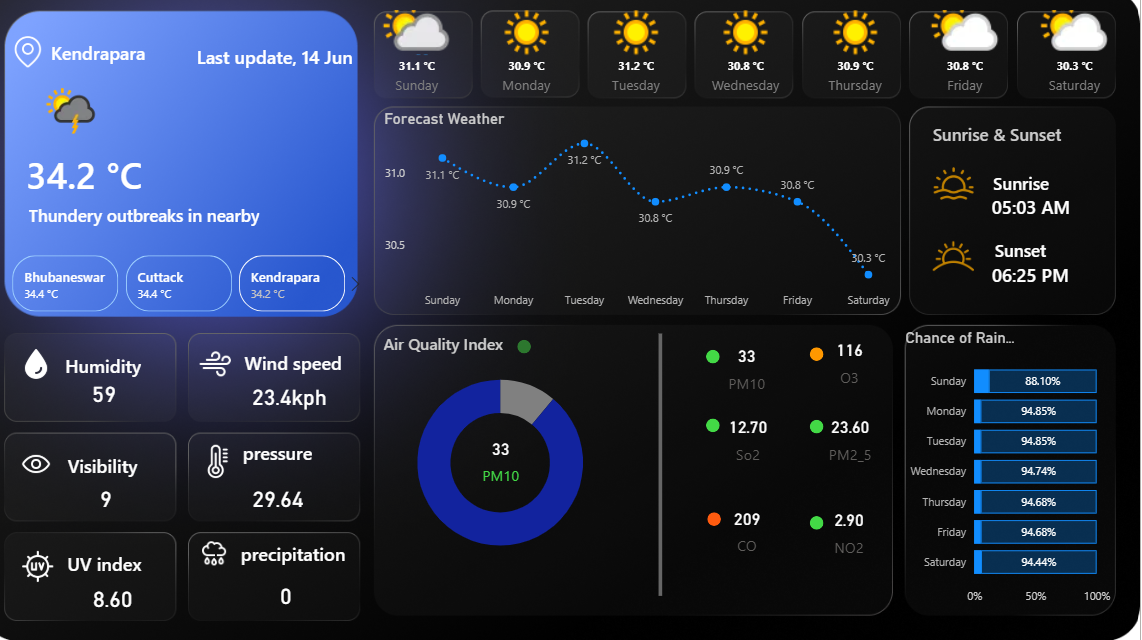

This screenshot's page, from the dashboard's own definition file:
{"tool":"powerbi","page":{"name":"Page 1","canvas":[1280,720],"ordinal":0},"visuals":[{"type":"advancedSlicerVisual","fields":{"Values":["locations.location.name"],"Label":["_measure.Curr_Temp_C"]},"box":[9.6,286.8,419.9,72.7],"z":0},{"type":"shape","box":[38.4,175.6,150.9,48],"z":1000},{"type":"shape","box":[34.3,223.7,290.9,49.4],"z":2000},{"type":"shape","box":[77.3,42.8,222.1,49.7],"z":3000},{"type":"shape","box":[188.5,47.9,221.4,49.4],"z":4000},{"type":"image","box":[34.5,48.3,34.5,37.2],"z":5000},{"type":"cardVisual","fields":{"Data":["Min(current table.current.condition.icon)"]},"box":[38.4,85.1,116.6,90.6],"z":6000},{"type":"image","box":[42.5,500.9,35.7,42.5],"z":7000},{"type":"image","box":[240.1,500.9,42.5,37],"z":8000},{"type":"image","box":[38.4,616.1,48,37],"z":9000},{"type":"image","box":[240.1,603.8,34.3,32.9],"z":10000},{"type":"image","box":[42.5,393.8,35.7,37],"z":11000},{"type":"image","box":[1028.6,262,88.2,61],"z":12000},{"type":"image","box":[240.1,393.8,37,37],"z":13000},{"type":"image","box":[1049.4,190.7,46.7,44.1],"z":14000},{"type":"shape","box":[269,606.5,150.9,27.4],"z":15000},{"type":"shape","box":[262.1,491.3,130.4,35.7],"z":16000},{"type":"shape","box":[279.9,393.8,129,32.9],"z":17000},{"type":"shape","box":[70,616.1,131.7,31.6],"z":18000},{"type":"shape","box":[68.6,509.1,130.4,28.8],"z":19000},{"type":"shape","box":[70,396.6,129,34.3],"z":20000},{"type":"card","fields":{"Values":["Sum(current table.current.precip_in)"]},"box":[302.4,648.4,69.2,37.6],"z":21000},{"type":"card","fields":{"Values":["Sum(current table.current.uv)"]},"box":[111.3,648.4,67.7,45.1],"z":22000},{"type":"card","fields":{"Values":["Sum(current table.current.pressure_in)"]},"box":[284.3,537.1,87.3,46.6],"z":23000},{"type":"card","fields":{"Values":["Sum(current table.current.vis_km)"]},"box":[96.3,537.1,82.7,46.6],"z":24000},{"type":"card","fields":{"Values":["_measure.Wind_Speed"]},"box":[275.3,424.3,129.4,46.6],"z":25000},{"type":"card","fields":{"Values":["Sum(current table.current.humidity)"]},"box":[99.3,419.7,72.2,51.2],"z":26000},{"type":"advancedSlicerVisual","fields":{"Values":["forecast day.Day_Name"]},"box":[419,2.6,852.2,128.4],"z":27000},{"type":"lineChart","title":"Forecast Weather","fields":{"Y":["Sum(forecast day.forecast.forecastday.day.avgtemp_c)"],"Category":["forecast day.Day_Name"]},"box":[439.7,131,575.9,228.3],"z":28000},{"type":"shape","box":[1083.1,268.5,128.4,35],"z":29000},{"type":"shape","box":[1083.1,194.6,129.7,35],"z":30000},{"type":"shape","box":[1040.3,141.4,162.1,33.7],"z":31000},{"type":"shape","box":[1084.4,214,149.2,48],"z":32000},{"type":"shape","box":[1083.1,293.2,150.5,41.5],"z":33000},{"type":"hundredPercentStackedBarChart","title":"Chance of Rain...","fields":{"Category":["forecast day.Day_Name"],"Y":["Sum(current table.current.chance_of_rain)","current table.Left_value_Rain"]},"box":[1015.6,372.3,236.1,313.9],"z":34000},{"type":"shape","box":[429.3,368.4,162.1,41.5],"z":35000},{"type":"card","fields":{"Values":["Sum(current table.current.air_quality.o3)"]},"box":[921.6,372.5,74.5,71.7],"z":36000},{"type":"card","fields":{"Values":["Sum(current table.current.air_quality.co)"]},"box":[808.5,557.4,74.5,73.1],"z":37000},{"type":"card","fields":{"Values":["Sum(current table.current.air_quality.pm2_5)"]},"box":[923,456.7,73.1,73.1],"z":38000},{"type":"card","fields":{"Values":["Sum(current table.current.air_quality.so2)"]},"box":[809.4,456.6,73.9,72.6],"z":39000},{"type":"card","fields":{"Values":["Sum(current table.current.air_quality.pm10)"]},"box":[808.1,377.5,73.9,72.6],"z":40000},{"type":"card","fields":{"Values":["Sum(current table.current.air_quality.no2)"]},"box":[921.6,560.1,73.1,71.7],"z":41000},{"type":"shape","box":[800.2,395.9,15.2,15.2],"z":42000},{"type":"shape","box":[800.2,471.8,15.2,15.2],"z":43000},{"type":"shape","box":[801.6,575.3,15.2,15.2],"z":44000},{"type":"shape","box":[914.7,473.2,15.2,15.2],"z":45000},{"type":"shape","box":[914.7,393.2,15.2,15.2],"z":46000},{"type":"shape","box":[914.7,579.4,15.2,15.2],"z":47000},{"type":"shape","box":[669.1,378,161.4,289.7],"z":48000},{"type":"card","fields":{"Values":["Sum(current table.current.air_quality.pm10)"]},"box":[536.7,480.1,74.5,73.1],"z":49000},{"type":"donutChart","fields":{"Y":["Sum(current table.current.air_quality.pm10)","_measure.Left_Value_PM10"]},"box":[418,401.5,310.4,238.7],"z":50000},{"type":"shape","box":[591.9,384.9,15.2,15.2],"z":51000}]}

Visuals, with their boxes in screenshot pixels (x1, y1, x2, y2), scaled from the page's 1280x720 canvas onto the 1142x640 screenshot:
advancedSlicerVisual - locations.location.name x _measure.Curr_Temp_C: <box>9,255,383,320</box>
shape: <box>34,156,169,199</box>
shape: <box>31,199,290,243</box>
shape: <box>69,38,267,82</box>
shape: <box>168,43,366,86</box>
image: <box>31,43,62,76</box>
cardVisual - Min(current table.current.condition.icon): <box>34,76,138,156</box>
image: <box>38,445,70,483</box>
image: <box>214,445,252,478</box>
image: <box>34,548,77,581</box>
image: <box>214,537,245,566</box>
image: <box>38,350,70,383</box>
image: <box>918,233,996,287</box>
image: <box>214,350,247,383</box>
image: <box>936,170,978,209</box>
shape: <box>240,539,375,563</box>
shape: <box>234,437,350,468</box>
shape: <box>250,350,365,379</box>
shape: <box>62,548,180,576</box>
shape: <box>61,453,178,478</box>
shape: <box>62,353,178,383</box>
card - Sum(current table.current.precip_in): <box>270,576,332,610</box>
card - Sum(current table.current.uv): <box>99,576,160,616</box>
card - Sum(current table.current.pressure_in): <box>254,477,332,519</box>
card - Sum(current table.current.vis_km): <box>86,477,160,519</box>
card - _measure.Wind_Speed: <box>246,377,361,419</box>
card - Sum(current table.current.humidity): <box>89,373,153,419</box>
advancedSlicerVisual - forecast day.Day_Name: <box>374,2,1134,116</box>
"Forecast Weather" lineChart: <box>392,116,906,319</box>
shape: <box>966,239,1081,270</box>
shape: <box>966,173,1082,204</box>
shape: <box>928,126,1073,156</box>
shape: <box>967,190,1101,233</box>
shape: <box>966,261,1101,298</box>
"Chance of Rain..." hundredPercentStackedBarChart: <box>906,331,1117,610</box>
shape: <box>383,327,528,364</box>
card - Sum(current table.current.air_quality.o3): <box>822,331,889,395</box>
card - Sum(current table.current.air_quality.co): <box>721,495,788,560</box>
card - Sum(current table.current.air_quality.pm2_5): <box>823,406,889,471</box>
card - Sum(current table.current.air_quality.so2): <box>722,406,788,470</box>
card - Sum(current table.current.air_quality.pm10): <box>721,336,787,400</box>
card - Sum(current table.current.air_quality.no2): <box>822,498,887,562</box>
shape: <box>714,352,727,365</box>
shape: <box>714,419,727,433</box>
shape: <box>715,511,729,525</box>
shape: <box>816,421,830,434</box>
shape: <box>816,350,830,363</box>
shape: <box>816,515,830,529</box>
shape: <box>597,336,741,594</box>
card - Sum(current table.current.air_quality.pm10): <box>479,427,545,492</box>
donutChart - Sum(current table.current.air_quality.pm10) x _measure.Left_Value_PM10: <box>373,357,650,569</box>
shape: <box>528,342,542,356</box>
